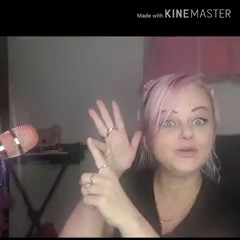U: (69, 96, 144, 223)
